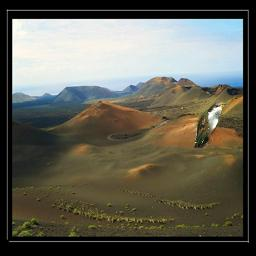Cuckoo: (194, 102, 227, 148)
